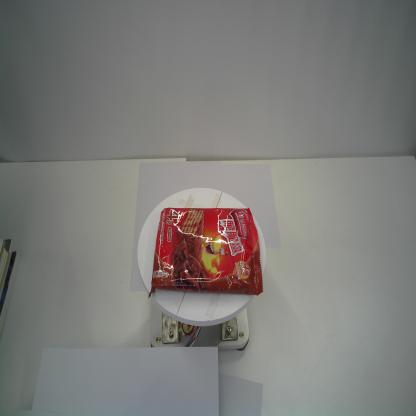Dessert: (148, 206, 264, 298)
